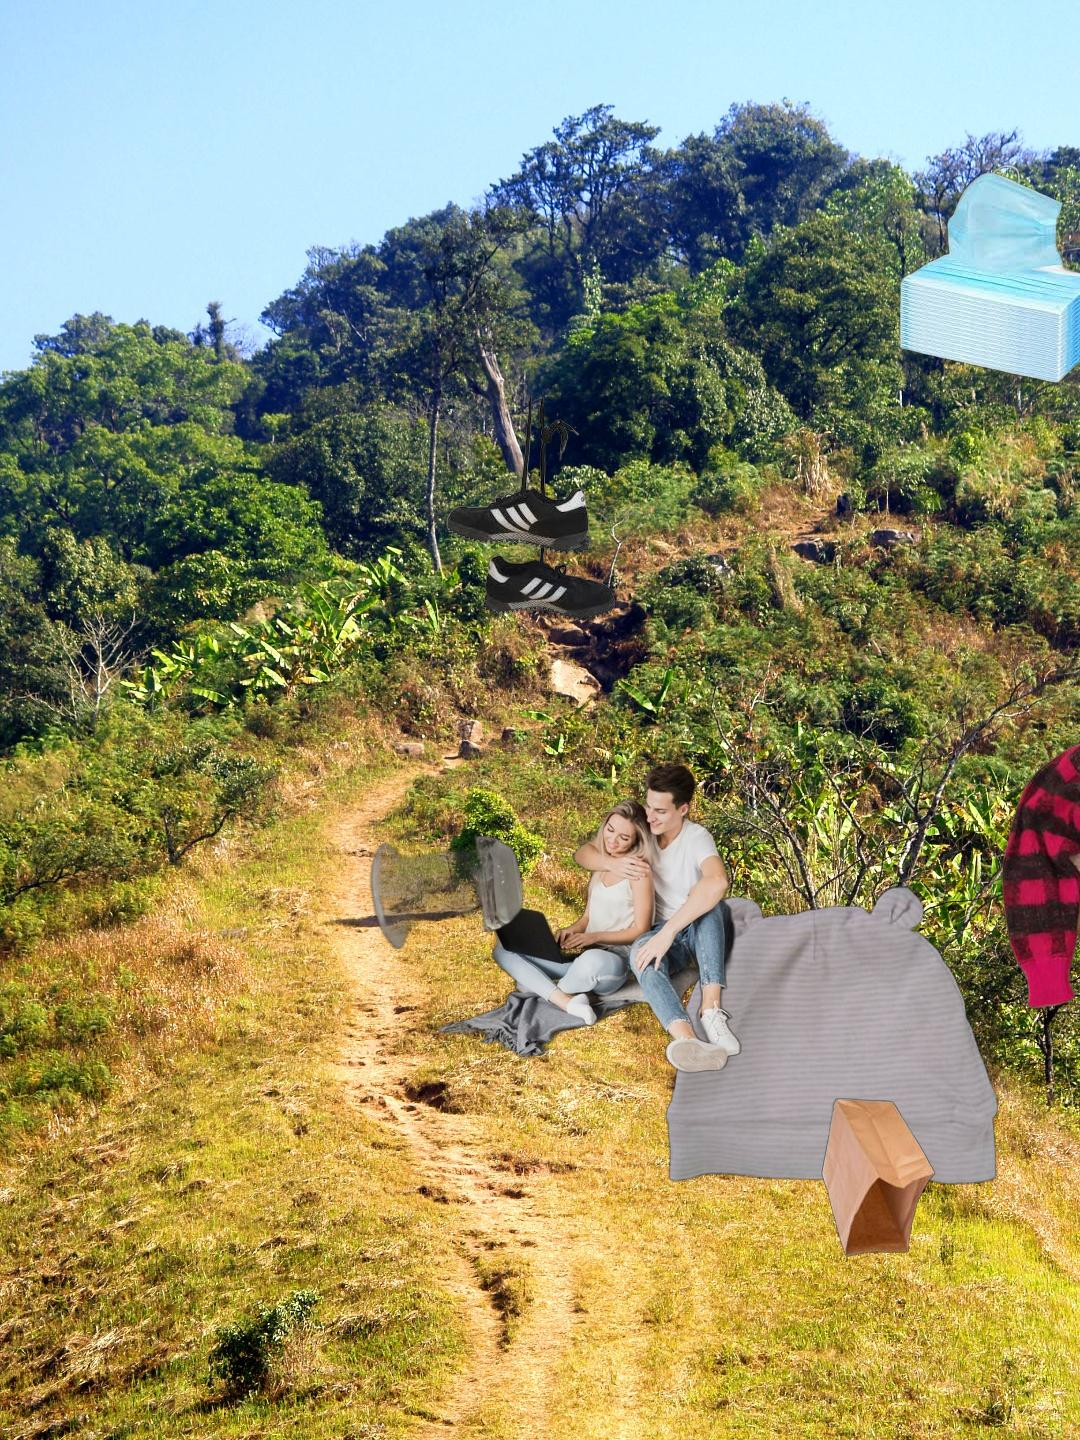clothes: (664, 883, 1002, 1188), (999, 713, 1080, 1062)
glass: (366, 832, 531, 951)
paper-bag: (819, 1096, 936, 1260)
shoes: (444, 393, 618, 622)
trash: (896, 162, 1080, 386)
trashbox-cardboard: (421, 761, 793, 1077), (1014, 1339, 1080, 1440)
